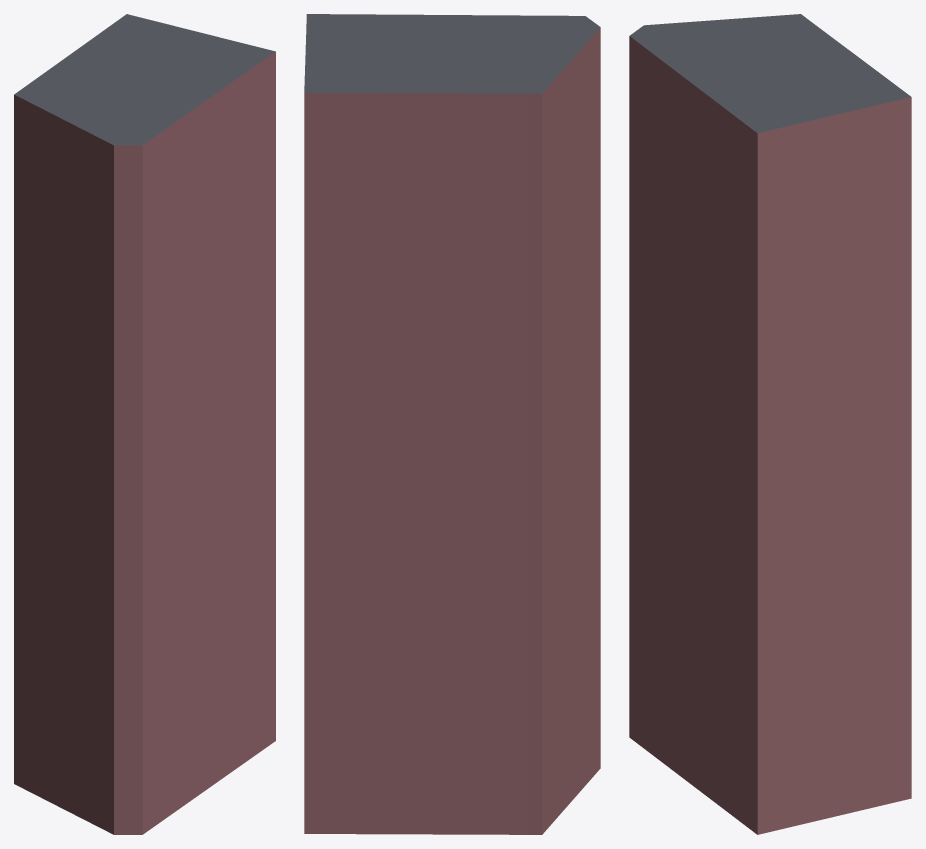
The model's file is nyc-1015261-0.glb.
The picture shows the model from 3 angles, left to right: view 1: azimuth 30°, elevation 25°; view 2: azimuth 150°, elevation 25°; view 3: azimuth 270°, elevation 25°; orthographic projection. The views are drawn at different scales.
Visible parts, largest first — view 1: nyc-1015261-0; view 2: nyc-1015261-0; view 3: nyc-1015261-0.
Boxes of the visible parts, x1,y1,x2,y2 form: nyc-1015261-0: (14, 14, 275, 834); nyc-1015261-0: (304, 14, 600, 834); nyc-1015261-0: (629, 14, 911, 834).
Bounding box in the file's own units: 35.76 × 98.02 × 35.72.
